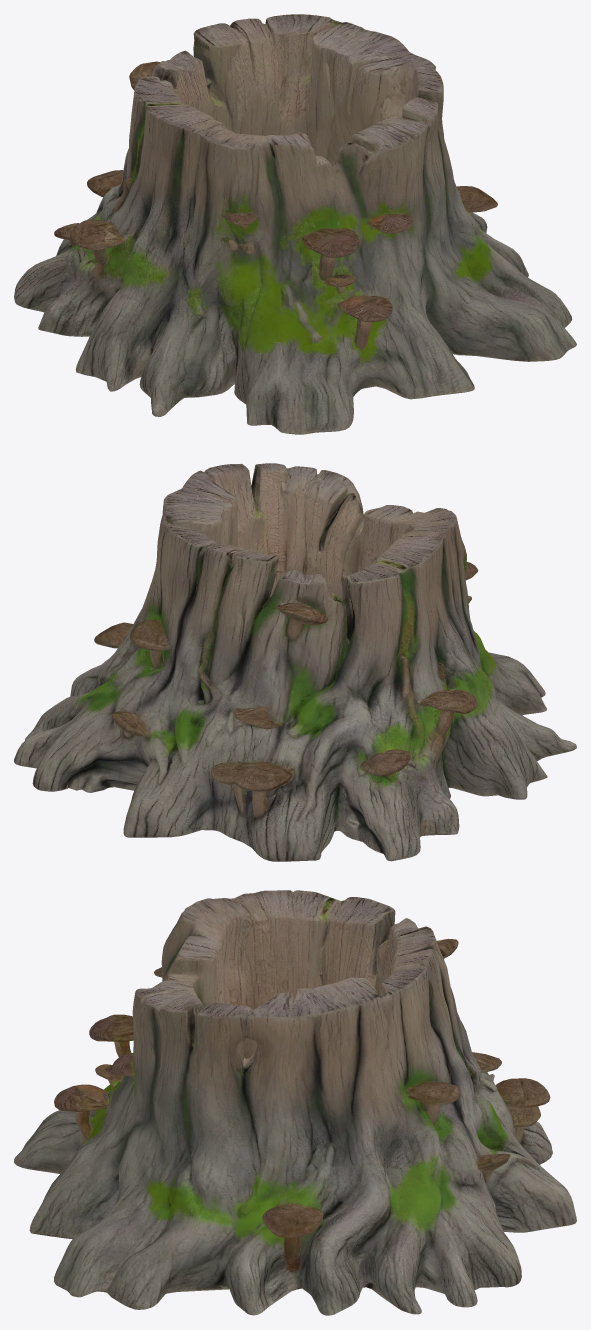
Rendered from forest-stump.glb.
The picture shows the model from 3 angles, top to bottom: view 1: azimuth 30°, elevation 25°; view 2: azimuth 150°, elevation 25°; view 3: azimuth 270°, elevation 25°; orthographic projection. The views are drawn at different scales.
Parts seen in each view (by area): view 1: forest-stump-Mesh_0.011; view 2: forest-stump-Mesh_0.011; view 3: forest-stump-Mesh_0.011.
Boxes of the visible parts, x1,y1,x2,y2 form: forest-stump-Mesh_0.011: (14,14,576,434); forest-stump-Mesh_0.011: (14,463,576,861); forest-stump-Mesh_0.011: (14,890,576,1315).
Bounding box in the file's own units: 2.01 × 1.07 × 2.1.
Materials: 1 (1 with a texture image).
